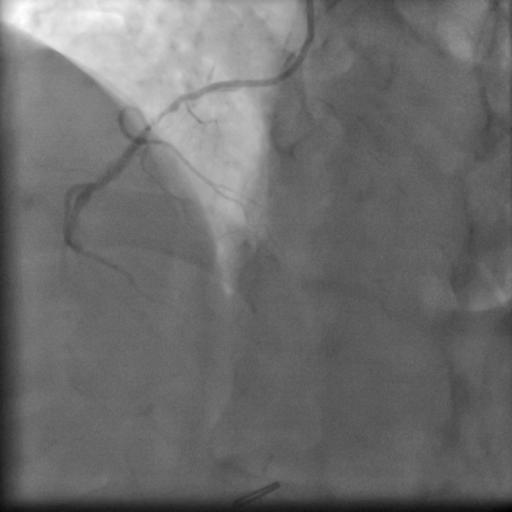Stenosis: (142, 96, 186, 131)
